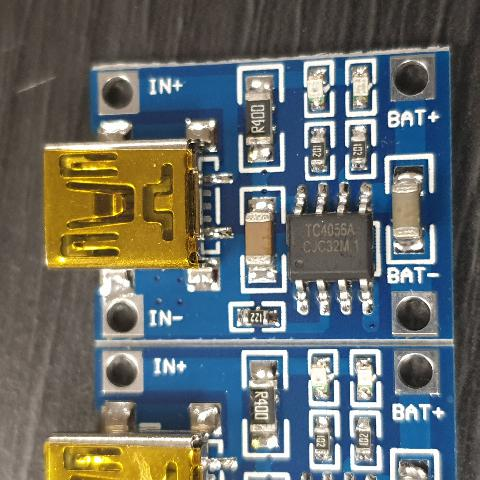batt+: (398, 350, 452, 395), (392, 54, 440, 98)
batt-: (392, 294, 432, 330)
charge: (308, 354, 341, 404), (304, 60, 328, 110)
done: (344, 58, 373, 114), (348, 351, 376, 406)
rprog: (236, 304, 272, 330)
usb: (44, 144, 193, 270)
